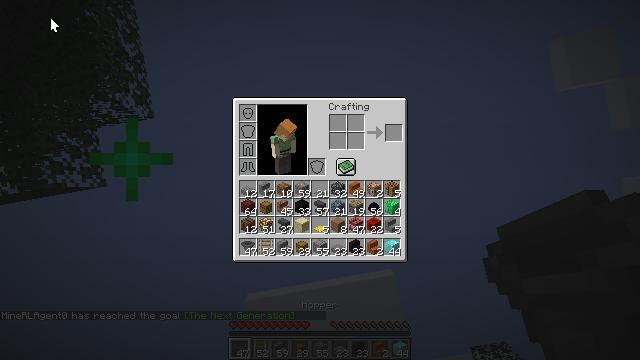cursor: (50, 17, 60, 33)
